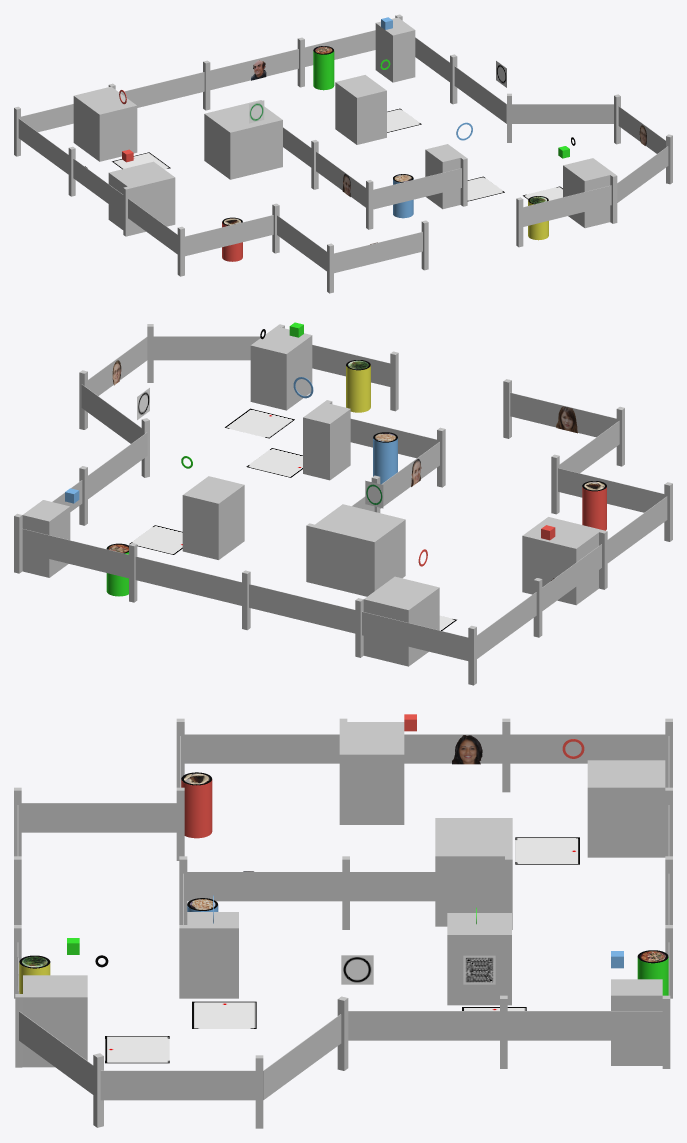
File: rins_2022_task3_final.dae
The picture shows the model from 3 angles, top to bottom: view 1: azimuth 30°, elevation 25°; view 2: azimuth 150°, elevation 25°; view 3: azimuth 270°, elevation 25°; orthographic projection. The views are drawn at different scales.
Parts seen in each view (by area): view 1: rins_2022_task3_final.001; view 2: rins_2022_task3_final.001; view 3: rins_2022_task3_final.001.
Part boxes in pixels (x1,y1,x2,y2): rins_2022_task3_final.001: (14, 14, 672, 293); rins_2022_task3_final.001: (14, 322, 672, 685); rins_2022_task3_final.001: (14, 714, 672, 1128).
Bounding box in the file's own units: 6.22 × 5.1 × 0.95.
19 materials, 13 textured.
